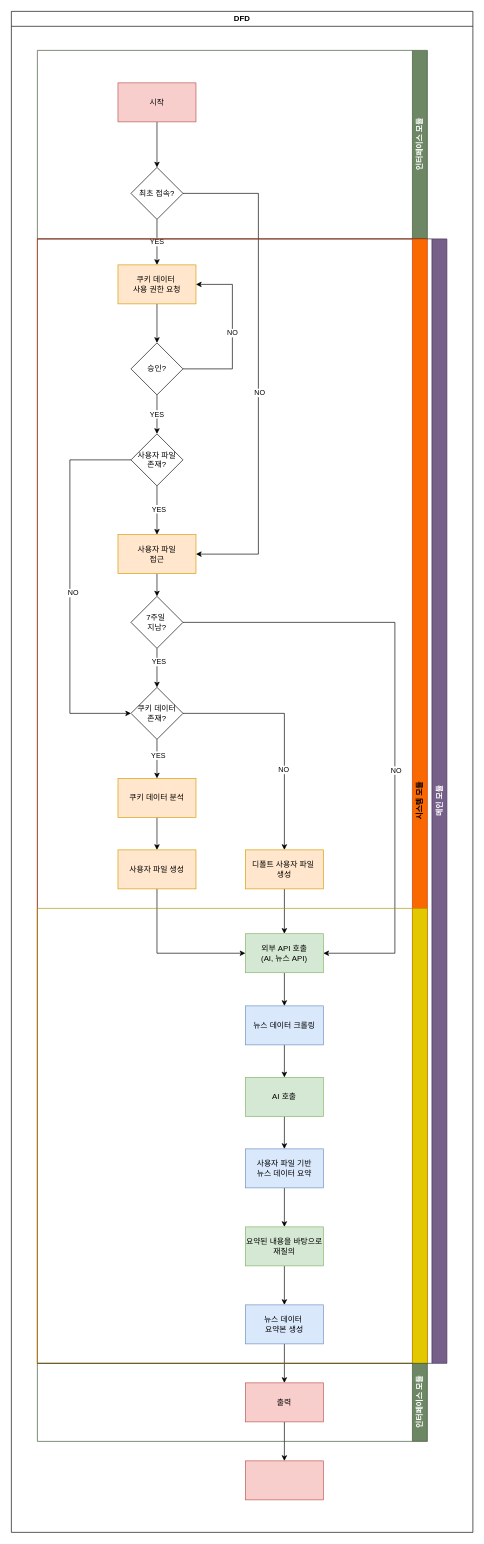
Some shapes in this 484 by 1544 pixel diagram are drawn without their labels. Here are the shapes that lost their labels. From the top down, the box of each, then its label:
(37, 908, 427, 1363): 뉴스 데이터 분석 모듈
(245, 1460, 323, 1500): 종료
